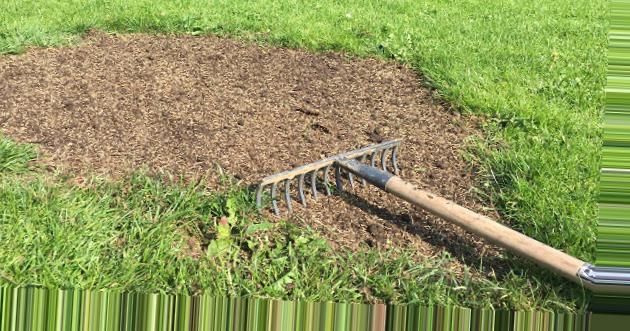patch: (18, 53, 304, 168), (329, 71, 431, 136)
